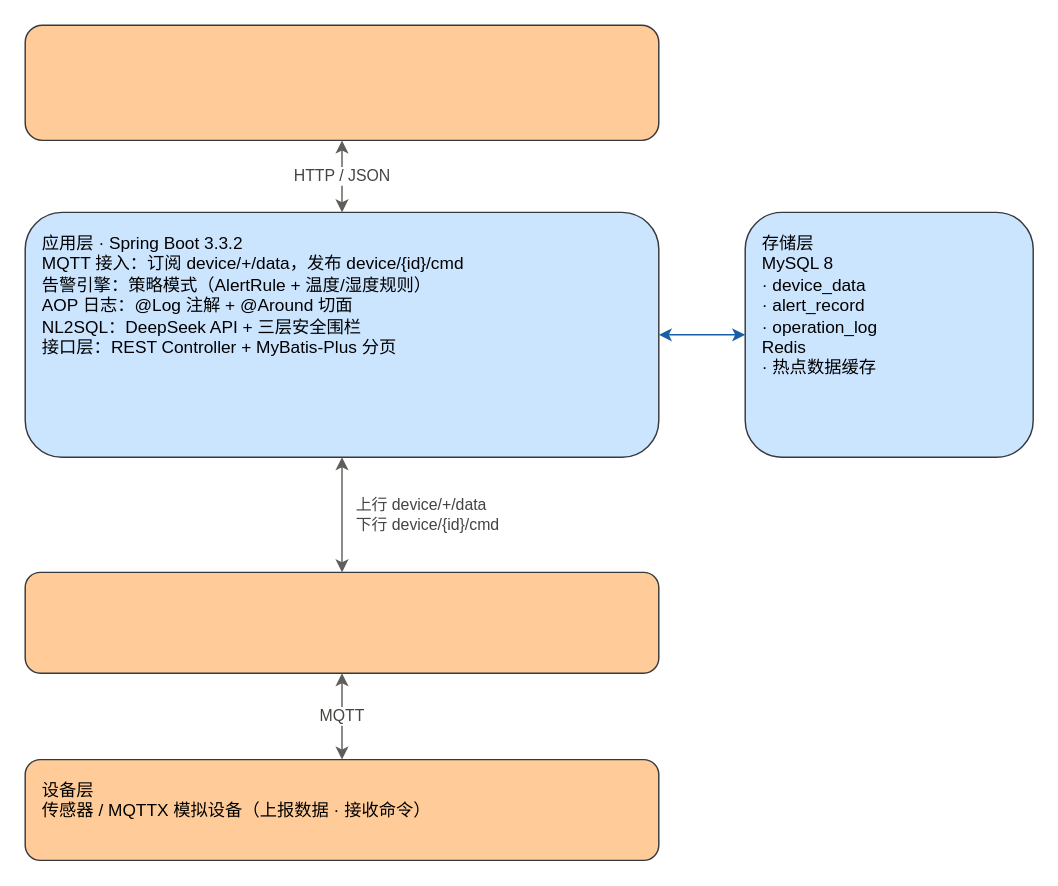
The diagram is 1058 pixels wide and 886 high, and some of its shapes have lost their labels. Here are the shapes that lost their labels. From the top down, the centre of each, then its label:
At [341,82]: "展示层 浏览器监控看板（static/index.html） 分页表格 · 趋势图 · 命令下发 · 自然语言查询".
At [341,622]: "消息层 · MQTT Broker mosquitto :1883（Docker 容器 mosquitto-learn）".
